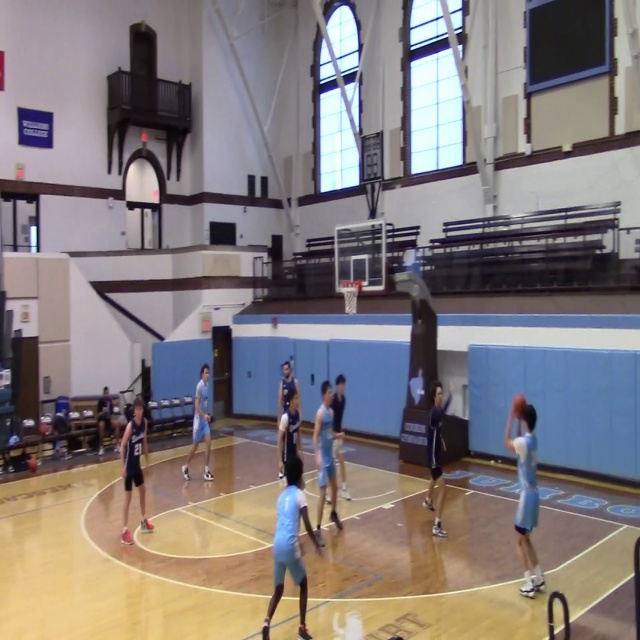Basketball: (512, 394, 526, 418), (27, 458, 37, 472)
